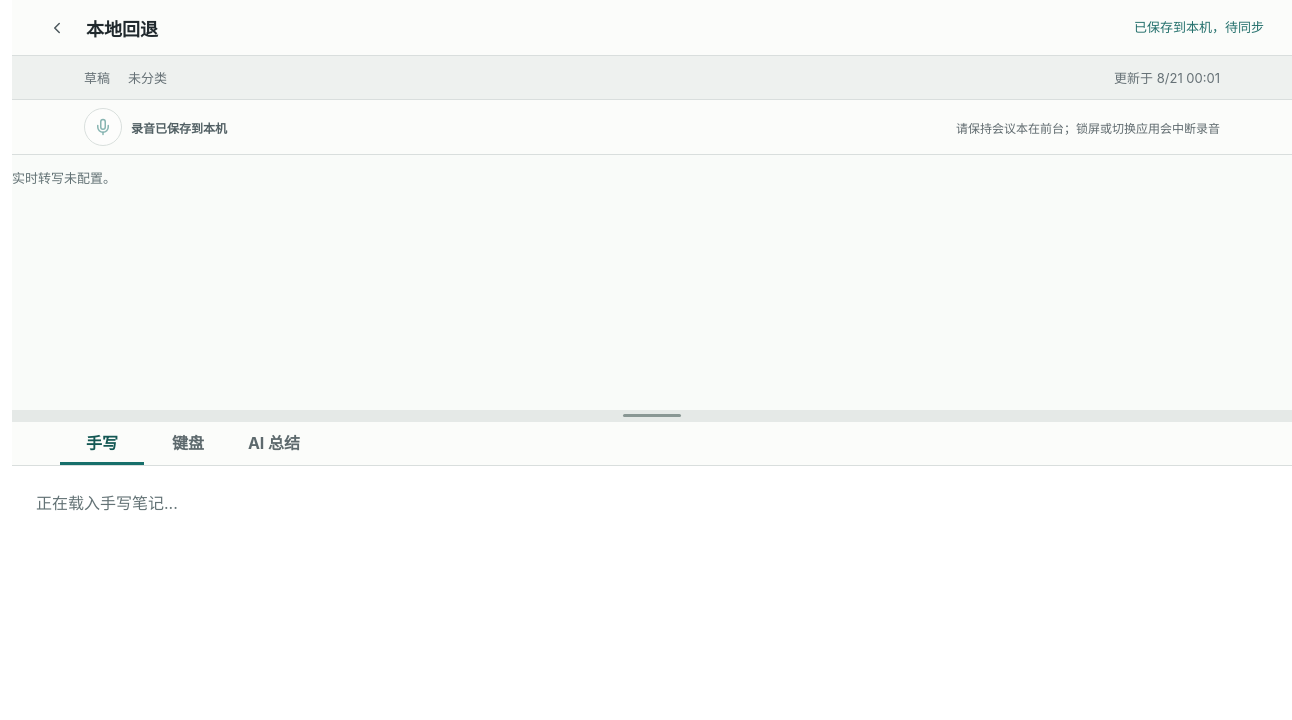
Test: MeetingWorkspacePage › falls back to an existing local meeting when online refresh fails
Click the tab "键盘". click: [188, 443]
box: top-left (146, 422), bottom-right (230, 465)
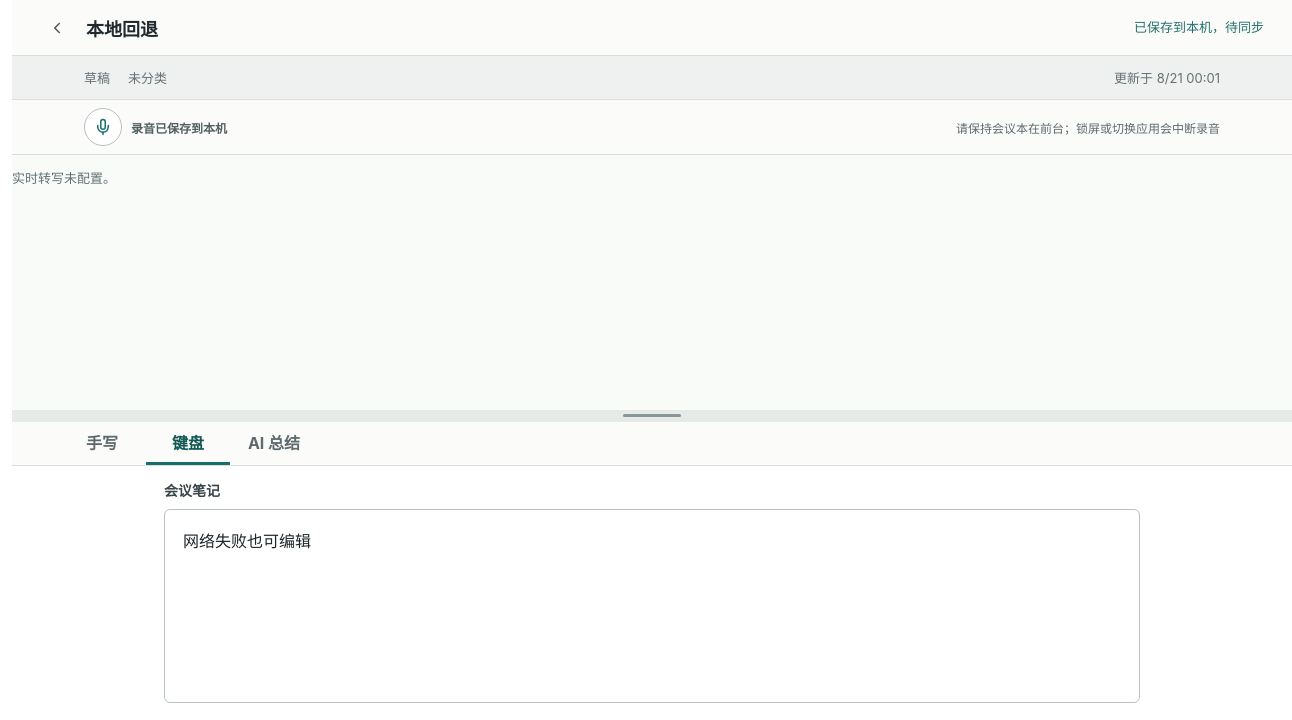
expect the text box labelled "会议笔记" holds "网络失败也可编辑": met, box top-left (164, 509), bottom-right (1140, 703)
